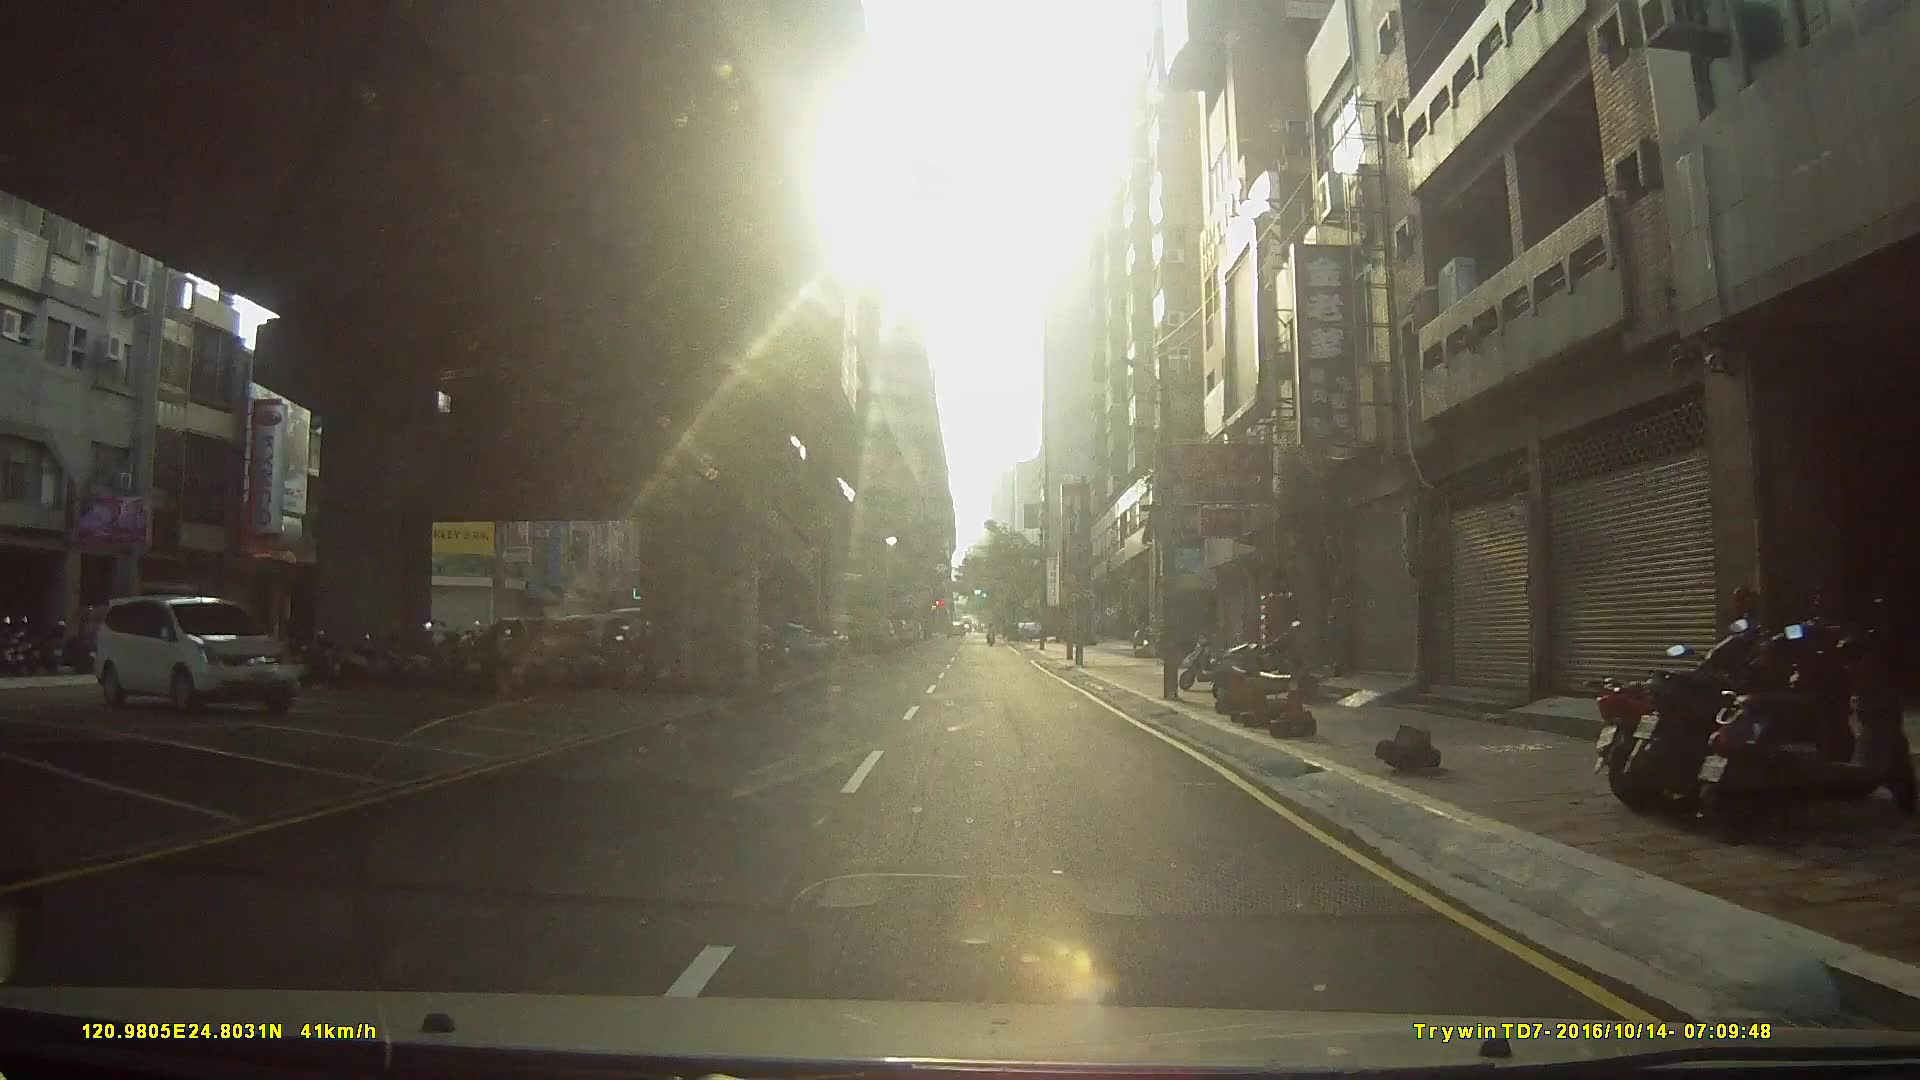vehicle: (94, 593, 301, 717)
